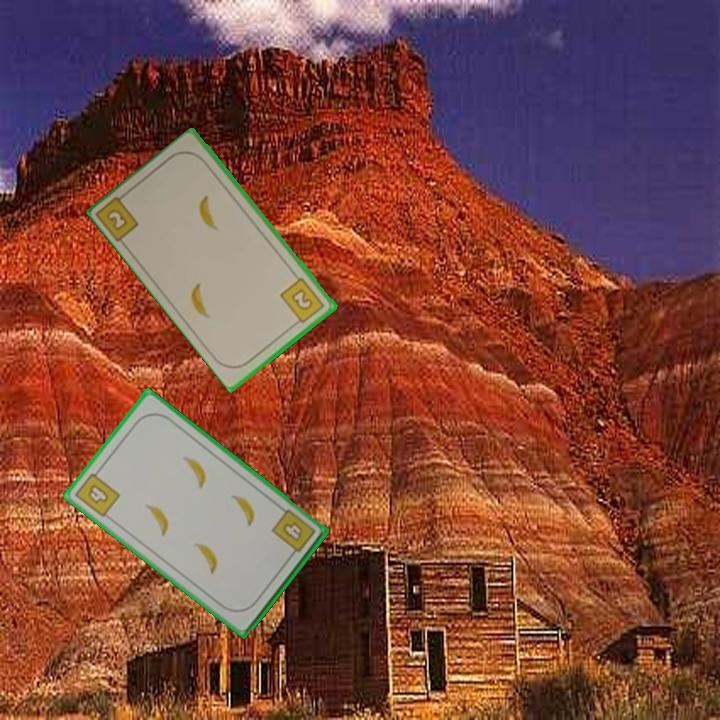2b: (277, 274, 328, 328), (95, 188, 142, 245)
4b: (71, 465, 123, 520), (268, 506, 318, 560)
